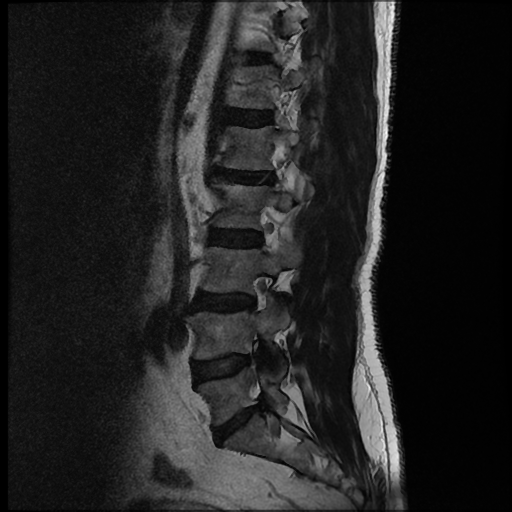RFS0: (239, 266, 278, 320)
